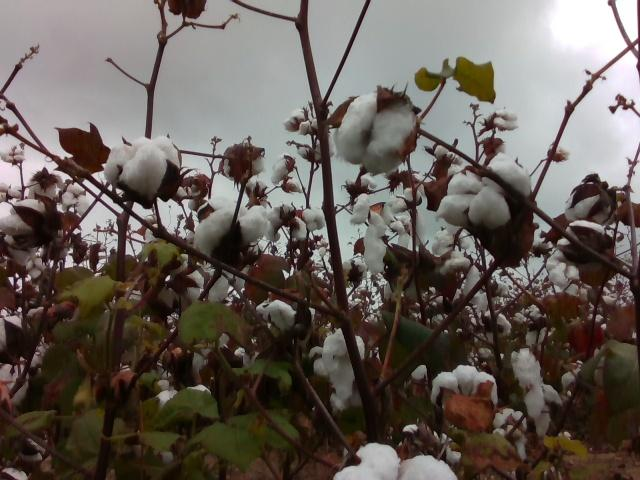cotton_ready: (334, 90, 419, 169), (436, 162, 535, 229), (507, 349, 563, 440), (334, 440, 458, 480), (103, 136, 182, 196), (546, 221, 613, 288), (310, 327, 366, 407), (193, 204, 269, 255), (430, 362, 501, 408), (353, 193, 388, 273), (258, 301, 317, 336), (564, 186, 616, 224), (492, 408, 529, 460), (0, 198, 48, 237), (207, 264, 248, 307), (171, 253, 204, 302), (222, 147, 265, 183), (0, 361, 33, 407), (0, 312, 30, 357), (432, 226, 473, 255), (266, 203, 293, 243), (28, 172, 65, 201), (61, 185, 92, 218), (297, 137, 335, 163), (437, 251, 470, 275), (271, 154, 294, 185), (282, 107, 308, 134), (491, 110, 519, 135), (341, 260, 367, 286), (302, 208, 326, 231)
